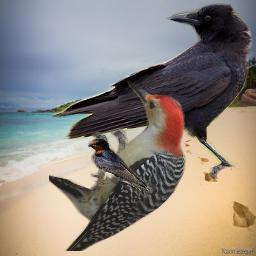Crow: (49, 3, 254, 179)
Swallow: (88, 138, 158, 198)
Woodpecker: (49, 80, 191, 251)
